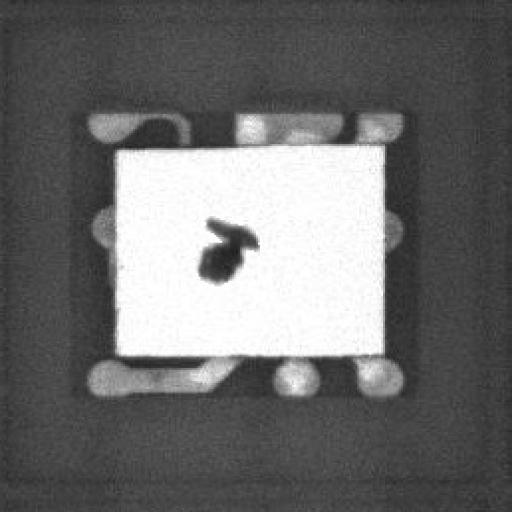DIE_INK: (184, 224, 245, 296)
